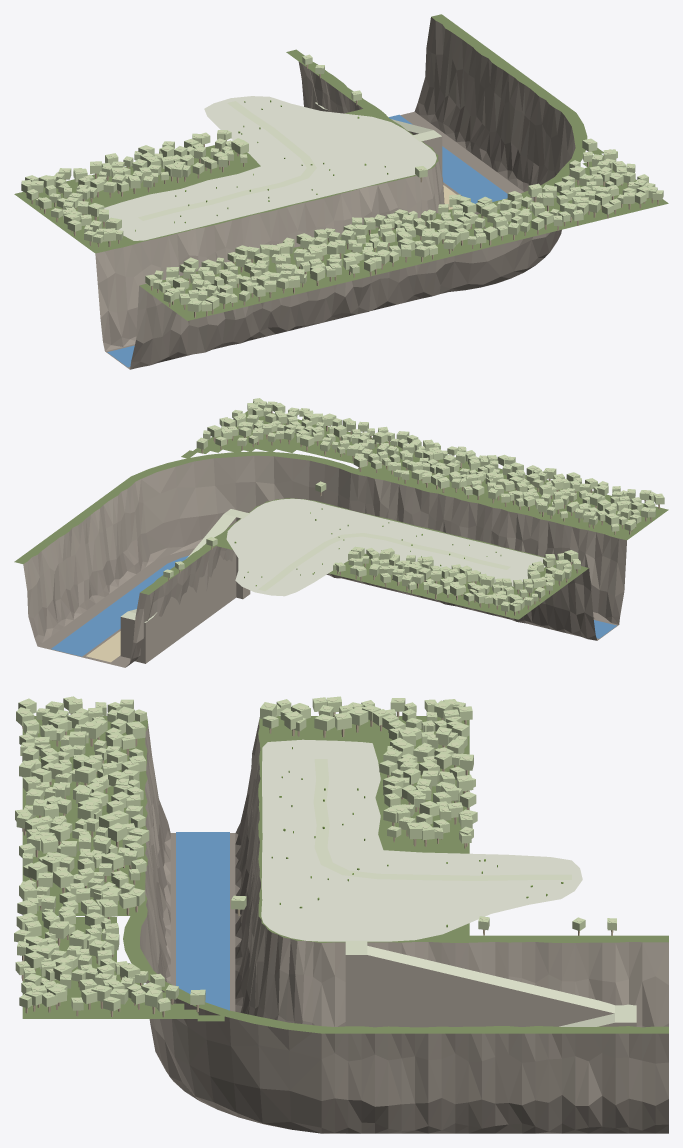
The model's file is recodo.glb.
3 views of the same model, one above another, from view 1: azimuth 30°, elevation 25°; view 2: azimuth 150°, elevation 25°; view 3: azimuth 270°, elevation 25° (orthographic). The views are drawn at different scales.
Visible parts, largest first — view 1: RecodoSurCanyon, RecodoEsteCanyon, RecodoMeadow, RecodoForestFloor, RecodoRio, RecodoPath; view 2: RecodoEsteCanyon, RecodoSurCanyon, RecodoMeadow, RecodoForestFloor, RecodoBajadaRampa-col, RecodoRio, RecodoPath, RecodoBordeForestFloor, RecodoBajadaDescanso-col, RecodoBajadaMeadow, RecodoPlayaMeadow; view 3: RecodoEsteCanyon, RecodoMeadow, RecodoSurCanyon, RecodoBajadaRampa-col, RecodoForestFloor, RecodoRio, RecodoBajadaMeadow, RecodoPath, RecodoBajadaRellano-col, RecodoBordeForestFloor.
Boxes of the visible parts, bbox=[...] form: RecodoSurCanyon: bbox=[89, 175, 454, 369]; RecodoEsteCanyon: bbox=[286, 14, 587, 291]; RecodoMeadow: bbox=[104, 96, 436, 240]; RecodoForestFloor: bbox=[14, 109, 668, 320]; RecodoRio: bbox=[107, 114, 507, 367]; RecodoPath: bbox=[138, 101, 316, 220]; RecodoEsteCanyon: bbox=[14, 451, 356, 667]; RecodoSurCanyon: bbox=[313, 469, 632, 640]; RecodoMeadow: bbox=[226, 498, 545, 596]; RecodoForestFloor: bbox=[193, 411, 668, 619]; RecodoBajadaRampa-col: bbox=[153, 517, 236, 658]; RecodoRio: bbox=[51, 555, 616, 656]; RecodoPath: bbox=[258, 533, 510, 591]; RecodoBordeForestFloor: bbox=[181, 439, 377, 463]; RecodoBajadaDescanso-col: bbox=[120, 617, 152, 663]; RecodoBajadaMeadow: bbox=[121, 509, 249, 622]; RecodoPlayaMeadow: bbox=[86, 631, 120, 662]; RecodoEsteCanyon: bbox=[123, 916, 668, 1133]; RecodoMeadow: bbox=[261, 739, 582, 941]; RecodoSurCanyon: bbox=[130, 716, 275, 1012]; RecodoBajadaRampa-col: bbox=[367, 955, 614, 1027]; RecodoForestFloor: bbox=[22, 716, 469, 1018]; RecodoRio: bbox=[176, 832, 229, 1010]; RecodoBajadaMeadow: bbox=[345, 940, 636, 1026]; RecodoPath: bbox=[313, 759, 571, 880]; RecodoBajadaRellano-col: bbox=[345, 955, 367, 1026]; RecodoBordeForestFloor: bbox=[63, 917, 224, 1021].
Size of what is drawn, in the model's own units: 141 by 28.86 by 122.
